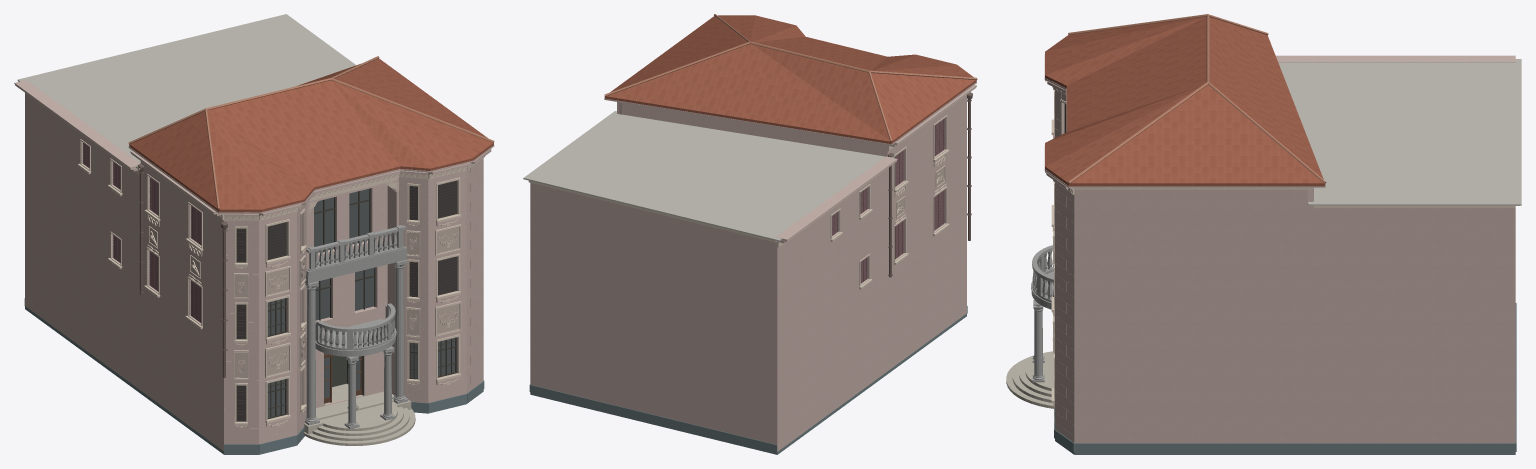
The model's file is lod-source.glb.
3 renders of one model, left to right at view 1: azimuth 30°, elevation 25°; view 2: azimuth 150°, elevation 25°; view 3: azimuth 270°, elevation 25°, orthographic. The views are drawn at different scales.
Parts seen in each view (by area): view 1: 福德坊1号花园住宅; view 2: 福德坊1号花园住宅; view 3: 福德坊1号花园住宅.
Boxes of the visible parts, box(x1,y1,x2,y2) form: 福德坊1号花园住宅: box(14, 14, 494, 454); 福德坊1号花园住宅: box(523, 14, 977, 454); 福德坊1号花园住宅: box(1006, 14, 1521, 454).
Size of the model in its own units: 13.85 by 13.85 by 20.01.
20 materials, 4 textured.
